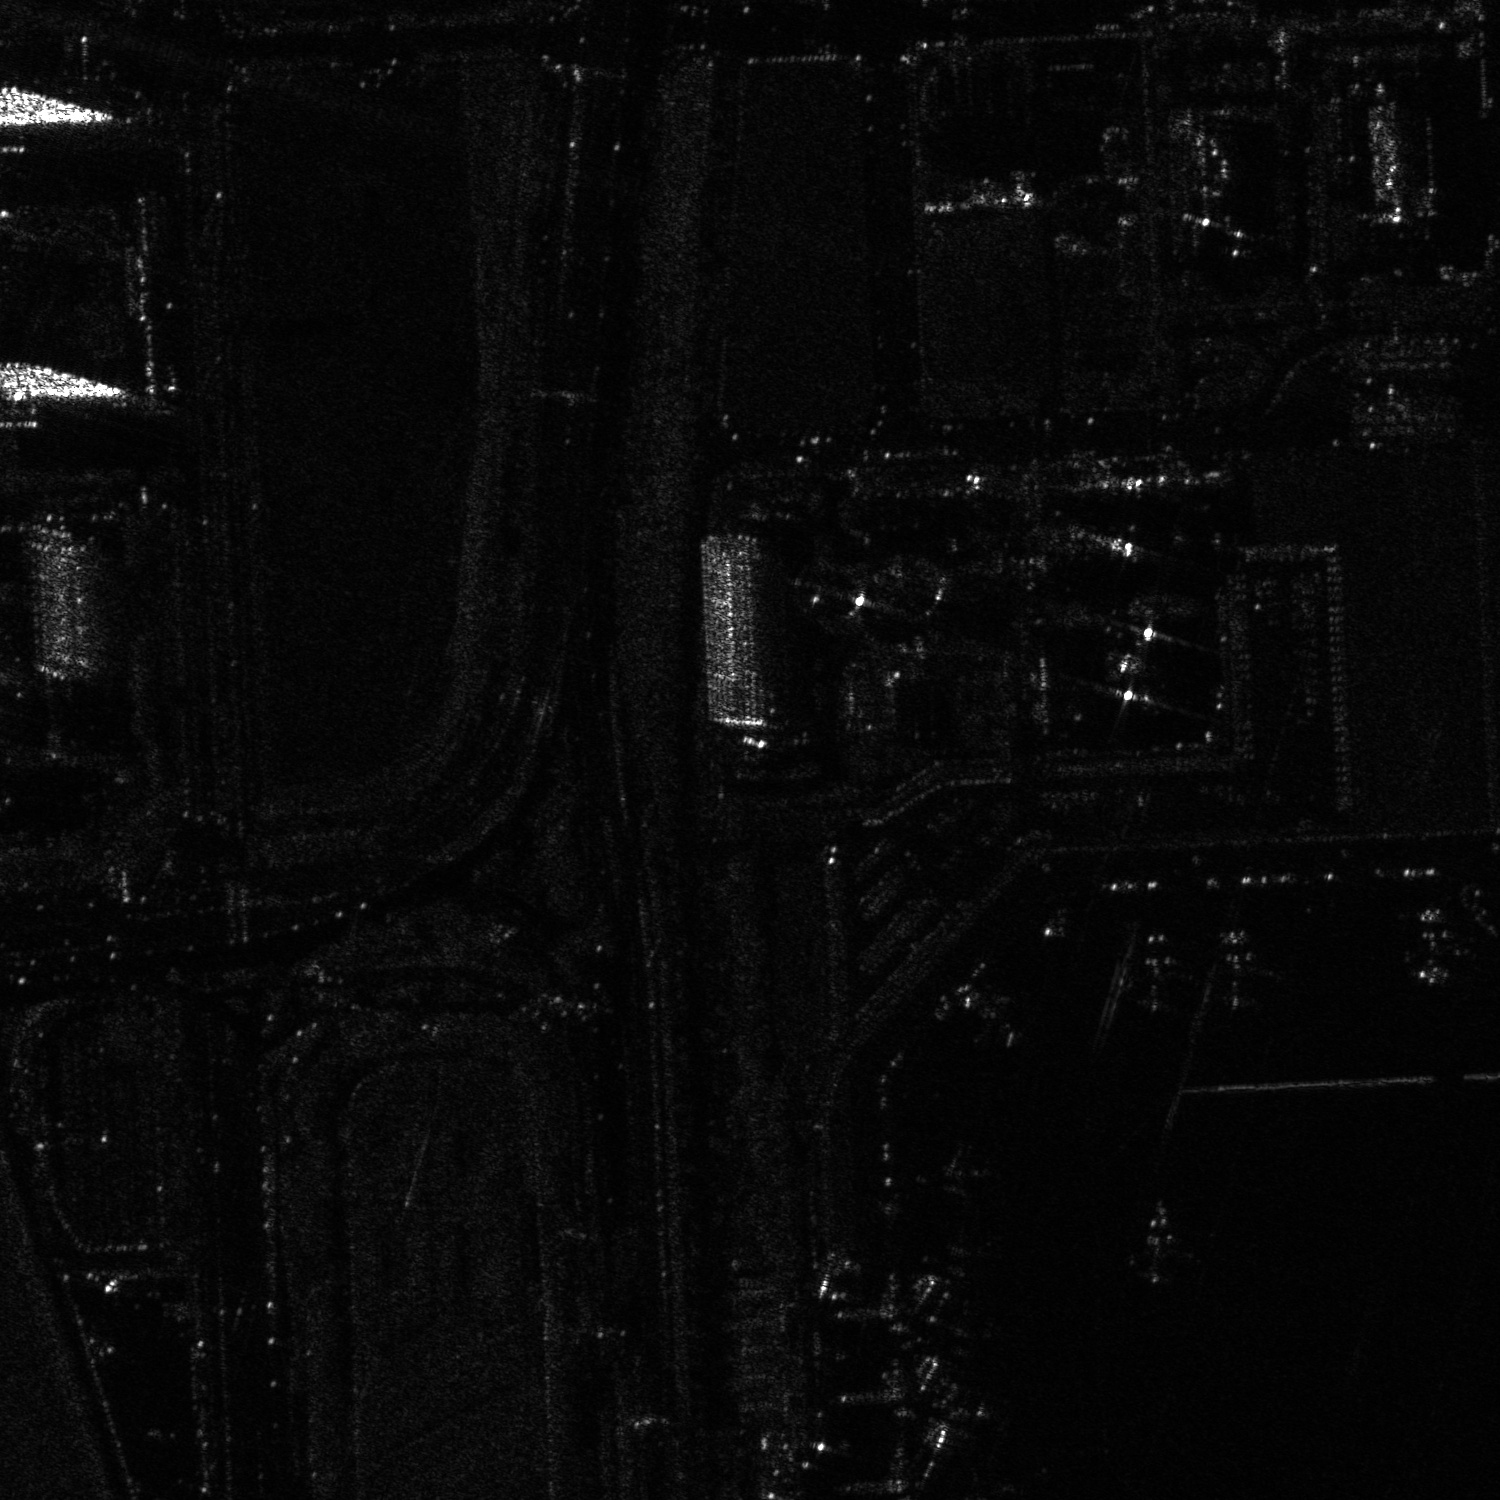A220: (907, 1141, 995, 1202), (962, 989, 1029, 1049)
Boeing737: (1205, 918, 1286, 1021), (1110, 926, 1196, 1016)
other: (1118, 1199, 1202, 1287), (1396, 901, 1478, 990)
